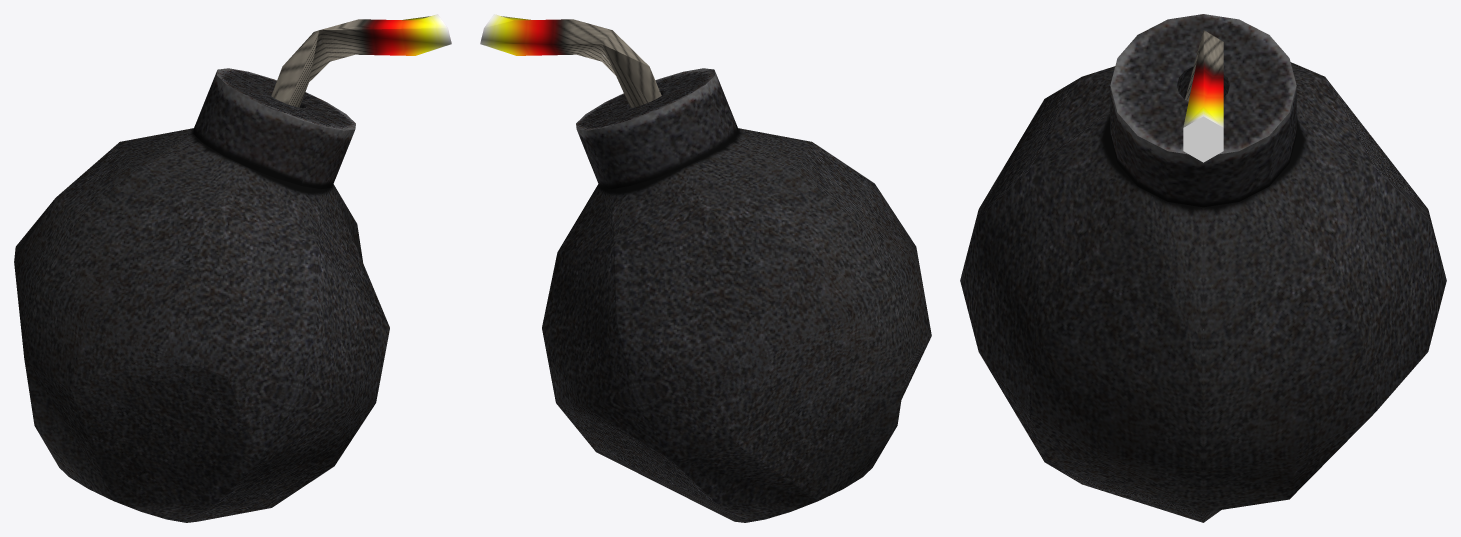
The model's file is GAM0210024.fbx.
3 renders of one model, left to right at view 1: azimuth 30°, elevation 25°; view 2: azimuth 150°, elevation 25°; view 3: azimuth 270°, elevation 25°, orthographic. The views are drawn at different scales.
Parts seen in each view (by area): view 1: smGAM0210024; view 2: smGAM0210024; view 3: smGAM0210024.
Part boxes in pixels (bbox=[...]): smGAM0210024: bbox=[14, 14, 451, 522]; smGAM0210024: bbox=[480, 14, 931, 522]; smGAM0210024: bbox=[960, 14, 1446, 522].
Size of the model in its own units: 15.33 by 15.49 by 12.5.
1 material, 1 textured.
